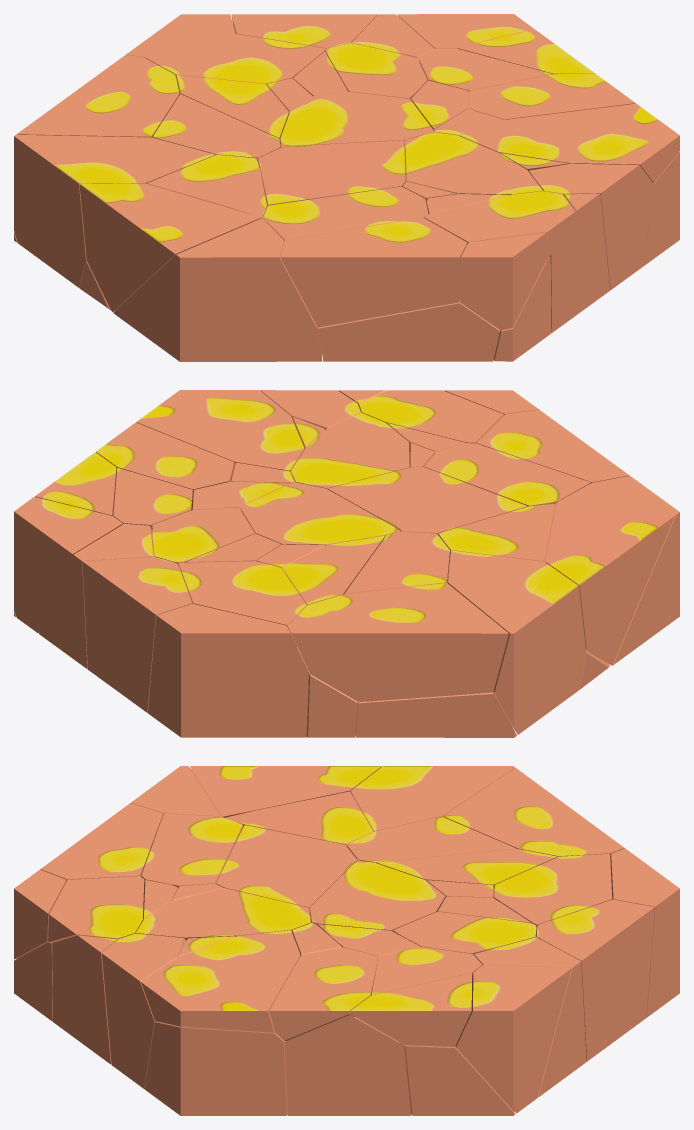
File: Hex50.fbx
3 views of the same model, one above another, from view 1: azimuth 30°, elevation 25°; view 2: azimuth 150°, elevation 25°; view 3: azimuth 270°, elevation 25° (orthographic).
Parts seen in each view (by area): view 1: Hex1_cell.187, Hex1_cell.191, Hex1_cell.169, Hex1_cell.160, Hex1_cell.179, Hex1_cell.174, Hex1_cell.167, Hex1_cell.206, Hex1_cell.194, Hex1_cell.175, Hex1_cell.184, Hex1_cell.205 (+23 smaller); view 2: Hex1_cell.167, Hex1_cell.208, Hex1_cell.169, Hex1_cell.160, Hex1_cell.164, Hex1_cell.179, Hex1_cell.204, Hex1_cell.206, Hex1_cell.175, Hex1_cell.187, Hex1_cell.162, Hex1_cell.205 (+20 smaller); view 3: Hex1_cell.173, Hex1_cell.179, Hex1_cell.204, Hex1_cell.164, Hex1_cell.180, Hex1_cell.167, Hex1_cell.206, Hex1_cell.194, Hex1_cell.169, Hex1_cell.186, Hex1_cell.175, Hex1_cell.160 (+23 smaller).
Boxes of the visible parts, bbox=[...] form: Hex1_cell.187: bbox=[113, 218, 322, 361]; Hex1_cell.191: bbox=[280, 217, 467, 327]; Hex1_cell.169: bbox=[14, 134, 215, 287]; Hex1_cell.160: bbox=[79, 183, 260, 312]; Hex1_cell.179: bbox=[459, 103, 679, 182]; Hex1_cell.174: bbox=[318, 299, 499, 361]; Hex1_cell.167: bbox=[16, 55, 179, 137]; Hex1_cell.206: bbox=[258, 140, 406, 206]; Hex1_cell.194: bbox=[528, 163, 653, 290]; Hex1_cell.175: bbox=[280, 92, 433, 149]; Hex1_cell.184: bbox=[460, 232, 547, 330]; Hex1_cell.205: bbox=[405, 132, 542, 194]; Hex1_cell.167: bbox=[288, 583, 508, 702]; Hex1_cell.208: bbox=[148, 604, 308, 737]; Hex1_cell.169: bbox=[447, 550, 586, 734]; Hex1_cell.160: bbox=[545, 503, 674, 665]; Hex1_cell.164: bbox=[82, 557, 192, 712]; Hex1_cell.179: bbox=[136, 390, 304, 475]; Hex1_cell.204: bbox=[14, 496, 122, 632]; Hex1_cell.206: bbox=[328, 466, 527, 534]; Hex1_cell.175: bbox=[240, 482, 400, 545]; Hex1_cell.187: bbox=[555, 476, 679, 665]; Hex1_cell.162: bbox=[356, 692, 516, 737]; Hex1_cell.205: bbox=[291, 412, 409, 488]; Hex1_cell.173: bbox=[144, 1022, 287, 1115]; Hex1_cell.179: bbox=[141, 930, 300, 1032]; Hex1_cell.204: bbox=[455, 965, 571, 1113]; Hex1_cell.164: bbox=[535, 899, 654, 1061]; Hex1_cell.180: bbox=[284, 1015, 411, 1115]; Hex1_cell.167: bbox=[443, 768, 624, 857]; Hex1_cell.206: bbox=[216, 825, 357, 912]; Hex1_cell.194: bbox=[101, 933, 186, 1088]; Hex1_cell.169: bbox=[351, 766, 515, 831]; Hex1_cell.186: bbox=[269, 947, 377, 1041]; Hex1_cell.175: bbox=[309, 860, 445, 931]; Hex1_cell.160: bbox=[190, 766, 381, 817].
Size of the model in its own units: 1 by 0.2003 by 1.15.
1 material, 1 textured.
